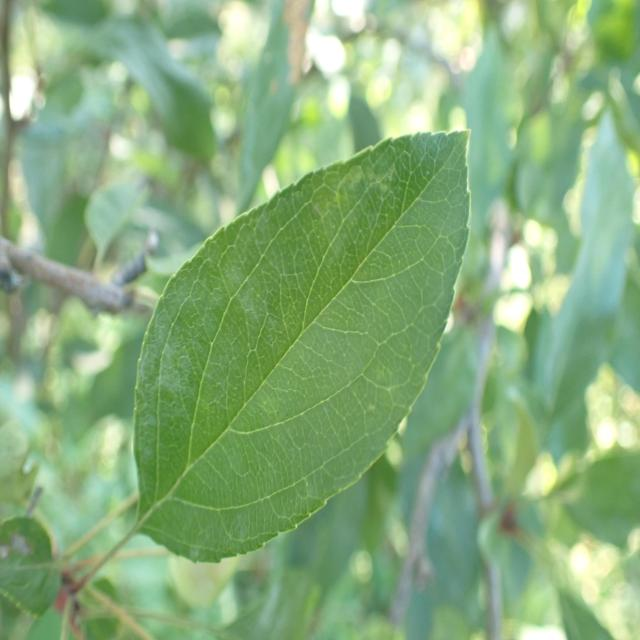Powdery_mildew: (101, 124, 472, 546)
